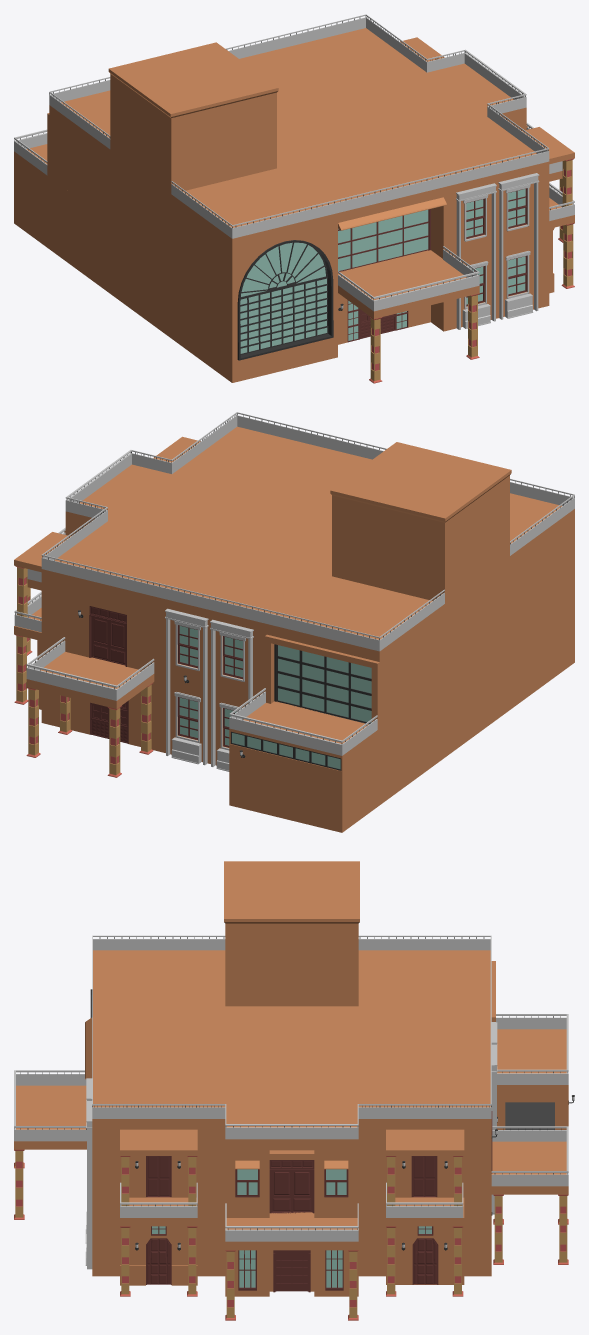
3 views of the same model, one above another, from view 1: azimuth 30°, elevation 25°; view 2: azimuth 150°, elevation 25°; view 3: azimuth 270°, elevation 25° (orthographic). The views are drawn at different scales.
Visible parts, largest first — view 1: FirstFloor, GroundFloor, RoofBalconie, BigWindow, SlidingDoor, BigWindowWall, WindowSection, Balcony_004, WindowDetail, SideDoor, Windows, WindowExt (+7 smaller); view 2: FirstFloor, GroundFloor, RoofBalconie, LargeWindow, DoorSection_001, WindowSection_001, Balcony, Windows_002, Balcony_005, WindowSection_002, SideDoor_002, Windows_001 (+10 smaller); view 3: FirstFloor, GroundFloor, RoofBalconie, Window_004, Window_003, Door_001, Door_002, FrontBalconyDoor, Balcony_005, Balcony, Balcony_004, Balcony_001 (+19 smaller).
Part boxes in pixels (x1,y1,x2,y2): FirstFloor: (47,28,574,310); GroundFloor: (14,144,574,382); RoofBalconie: (49,14,549,238); BigWindow: (237,230,333,360); SlidingDoor: (338,209,430,271); BigWindowWall: (232,228,337,382); WindowSection: (443,177,549,256); Balcony_004: (338,246,479,311); WindowDetail: (462,251,533,328); SideDoor: (338,293,430,344); Windows: (463,184,530,241); WindowExt: (498,173,539,319); FirstFloor: (14,426,574,729); GroundFloor: (14,579,574,832); RoofBalconie: (41,412,574,651); LargeWindow: (274,644,371,724); DoorSection_001: (41,585,154,670); WindowSection_001: (154,613,264,697); Balcony: (229,688,377,755); Windows_002: (171,692,241,771); Balcony_005: (26,637,154,700); WindowSection_002: (154,681,246,765); SideDoor_002: (89,597,126,666); Windows_001: (174,621,245,681); FirstFloor: (85,861,495,1197); GroundFloor: (14,1029,568,1296); RoofBalconie: (92,935,491,1139); Window_004: (225,1156,269,1217); Window_003: (314,1156,358,1217); Door_001: (120,1156,197,1197); Door_002: (386,1156,464,1197); FrontBalconyDoor: (269,1159,314,1213); Balcony_005: (491,1126,568,1186); Balcony: (496,1014,568,1084); Balcony_004: (14,1070,86,1141); Balcony_001: (225,1203,358,1241).
Size of the model in its own units: 12.57 by 6.74 by 13.95.
